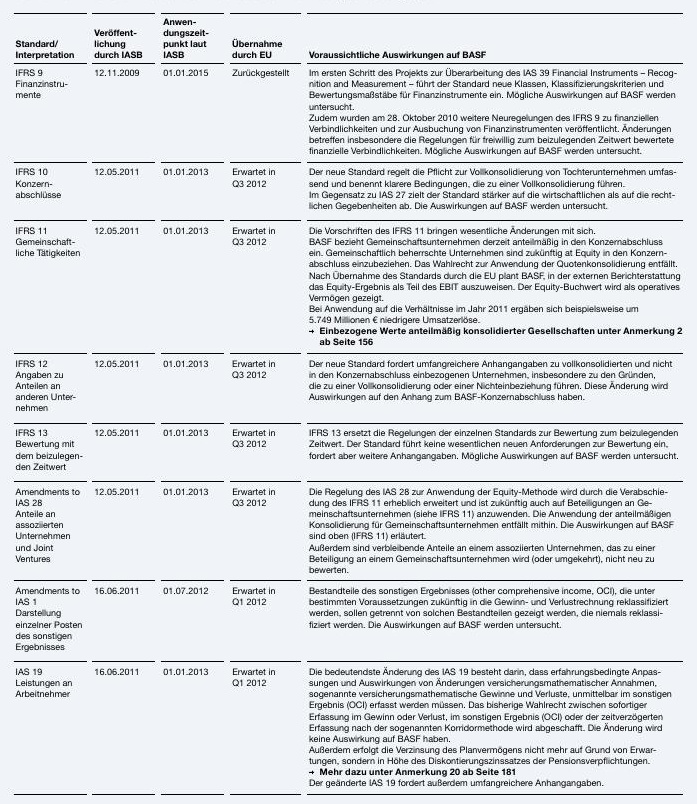table: (0, 0, 697, 804)
